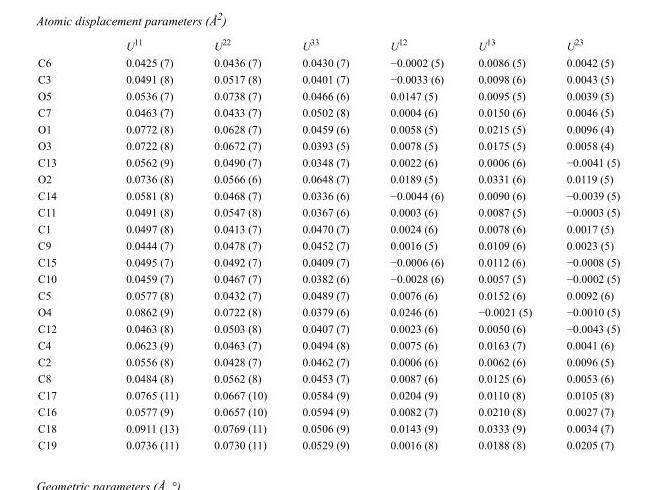table: (37, 36, 619, 450)
table column: (90, 36, 195, 450), (369, 36, 460, 450), (195, 36, 283, 450), (460, 36, 548, 450), (283, 36, 369, 450), (548, 36, 619, 450), (37, 36, 90, 450)
table column header: (37, 36, 619, 53)
table row: (37, 36, 619, 53), (37, 53, 619, 70), (37, 70, 619, 87), (37, 103, 619, 120), (37, 136, 619, 153), (37, 153, 619, 170), (37, 186, 619, 203), (37, 203, 619, 220), (37, 236, 619, 253), (37, 269, 619, 286), (37, 286, 619, 303), (37, 319, 619, 336), (37, 336, 619, 353), (37, 369, 619, 386), (37, 402, 619, 419), (37, 419, 619, 436), (37, 87, 619, 103), (37, 120, 619, 136), (37, 170, 619, 186), (37, 220, 619, 236), (37, 253, 619, 269), (37, 303, 619, 319), (37, 353, 619, 369), (37, 386, 619, 402), (37, 436, 619, 450)
